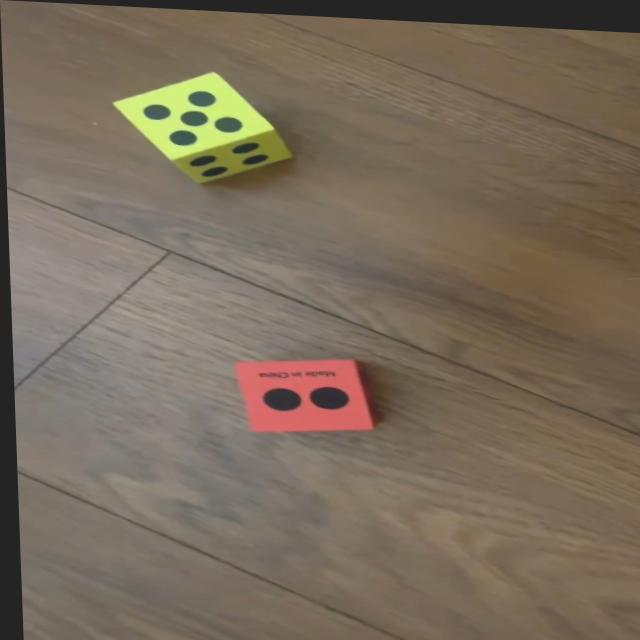red_block: (229, 348, 373, 435)
